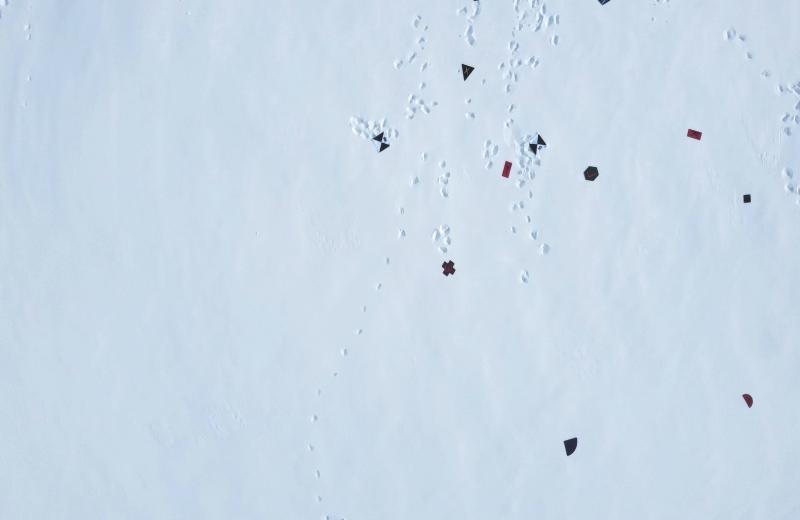Cross: (442, 258, 457, 276)
Hexagon: (583, 165, 600, 184)
Pentagon: (595, 0, 611, 7)
Quarter Circle: (562, 437, 580, 458)
Rectangle: (499, 160, 516, 179), (685, 127, 701, 143)
Semi Circle: (741, 391, 755, 409)
Square: (741, 191, 752, 204)
Triangle: (458, 63, 476, 82)
